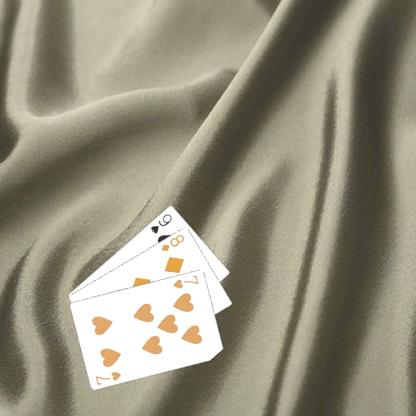7H: (170, 272, 200, 290), (93, 369, 122, 386)
8D: (158, 231, 186, 253)
9S: (148, 211, 173, 235)
